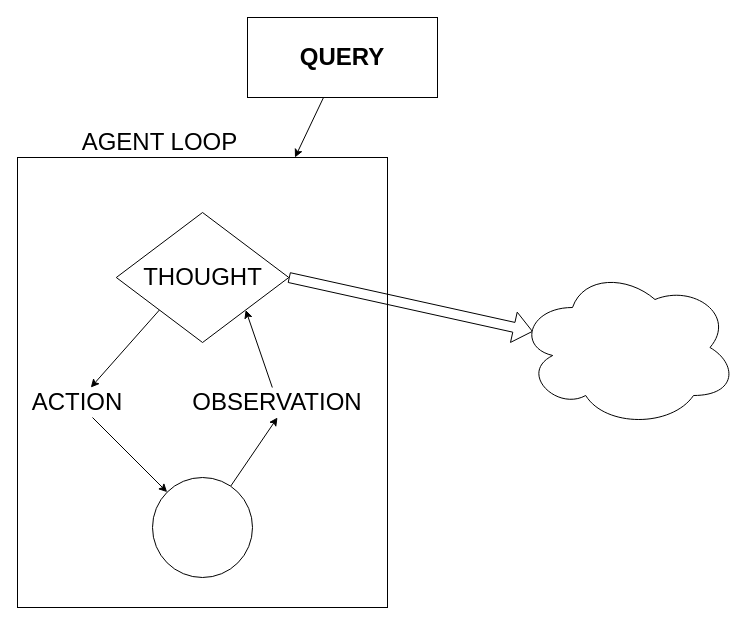
Image size: 755x625. Some labels were removed from this diagram. The box of each missing label's shape, as (x1, y1, x2, y2) in pixels:
ANSWER: (516, 266, 738, 428)
TOOLS: (152, 476, 252, 578)
